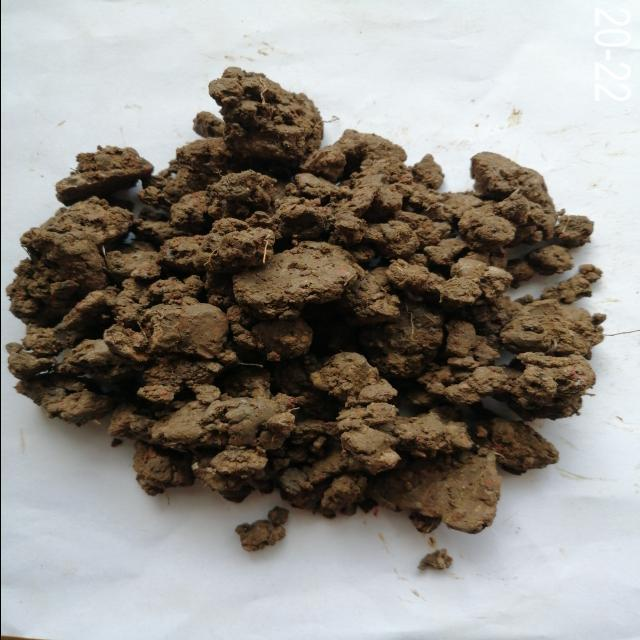soil: (101, 194, 519, 426)
